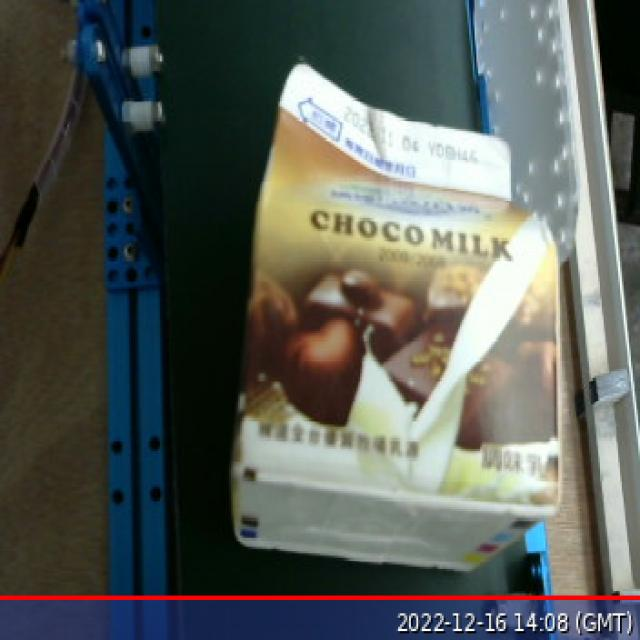non_white_jug: (226, 44, 577, 590)
